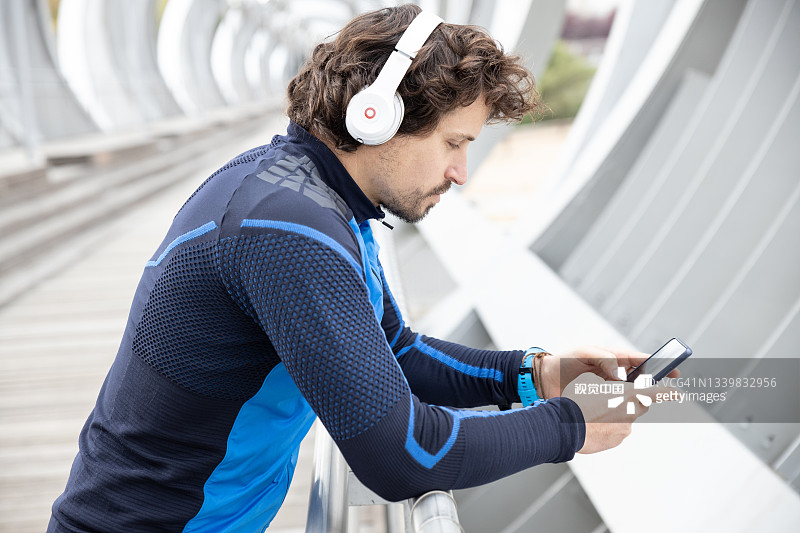reading: (525, 323, 700, 469)
